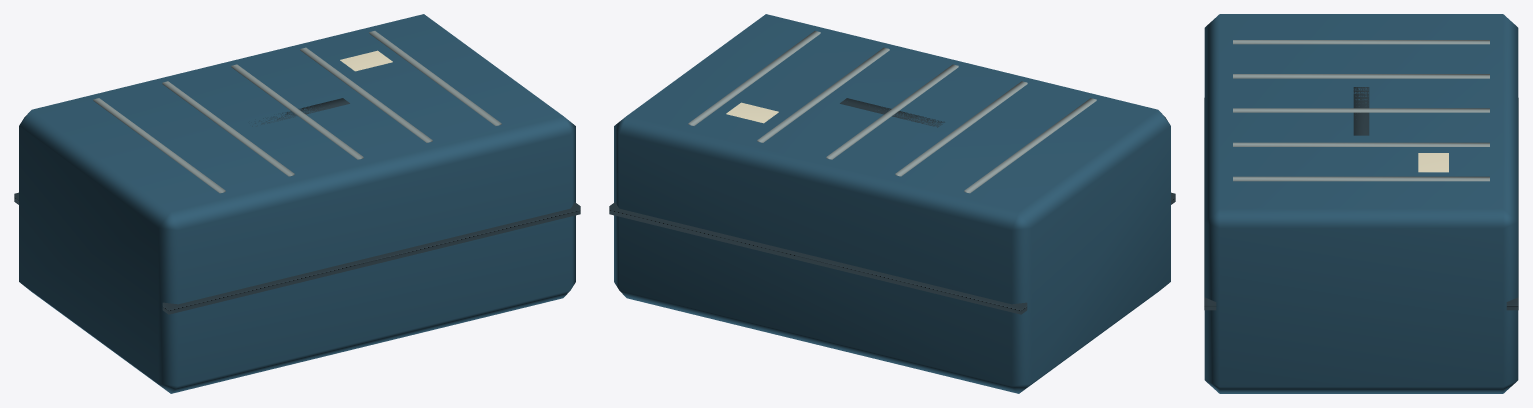
3 renders of one model, left to right at view 1: azimuth 30°, elevation 25°; view 2: azimuth 150°, elevation 25°; view 3: azimuth 270°, elevation 25°, orthographic.
Visible parts, largest first — view 1: case, zipper_band, rib_-0.1188, rib_0.0, rib_0.11879999999999999, rib_-0.2376, rib_0.2376, id_tag, handle; view 2: case, zipper_band, rib_-0.1188, rib_0.0, rib_0.11879999999999999, rib_-0.2376, rib_0.2376, handle, id_tag; view 3: case, rib_0.2376, rib_-0.2376, rib_-0.1188, rib_0.0, rib_0.11879999999999999, handle, zipper_band, id_tag.
Boxes of the visible parts, bbox=[...] form: case: bbox=[19, 14, 575, 393]; zipper_band: bbox=[14, 192, 580, 314]; rib_-0.1188: bbox=[162, 81, 294, 176]; rib_0.0: bbox=[231, 64, 363, 159]; rib_0.11879999999999999: bbox=[300, 47, 432, 142]; rib_-0.2376: bbox=[93, 98, 225, 193]; rib_0.2376: bbox=[369, 31, 501, 125]; id_tag: bbox=[340, 50, 392, 71]; handle: bbox=[252, 98, 349, 126]; case: bbox=[614, 14, 1170, 393]; zipper_band: bbox=[609, 192, 1175, 314]; rib_-0.1188: bbox=[895, 81, 1027, 176]; rib_0.0: bbox=[826, 64, 958, 159]; rib_0.11879999999999999: bbox=[757, 47, 889, 142]; rib_-0.2376: bbox=[964, 98, 1096, 193]; rib_0.2376: bbox=[688, 31, 820, 125]; handle: bbox=[840, 98, 944, 127]; id_tag: bbox=[726, 102, 778, 123]; case: bbox=[1204, 14, 1518, 393]; rib_0.2376: bbox=[1233, 176, 1489, 181]; rib_-0.2376: bbox=[1233, 40, 1489, 44]; rib_-0.1188: bbox=[1233, 74, 1489, 78]; rib_0.0: bbox=[1233, 108, 1489, 112]; rib_0.11879999999999999: bbox=[1233, 142, 1489, 146]; handle: bbox=[1353, 87, 1369, 135]; zipper_band: bbox=[1204, 98, 1518, 310]; id_tag: bbox=[1418, 153, 1448, 172].
Bounding box in the file's own units: 0.72 × 0.461 × 0.3025.
